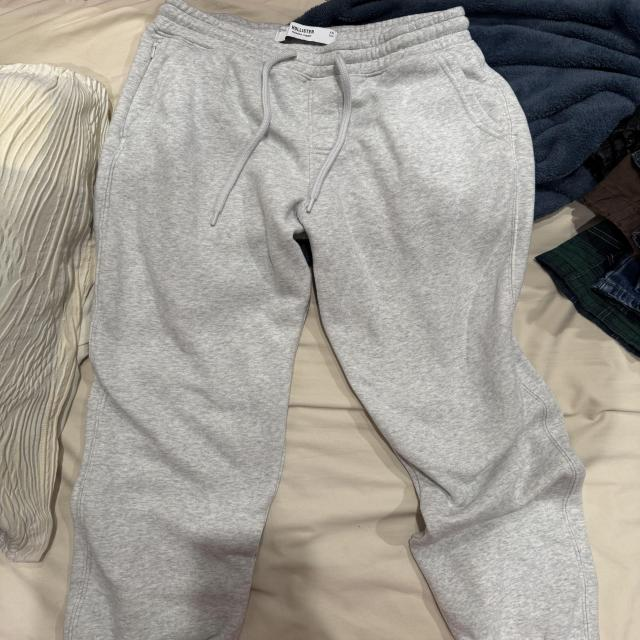back_tag: (272, 21, 347, 46)
